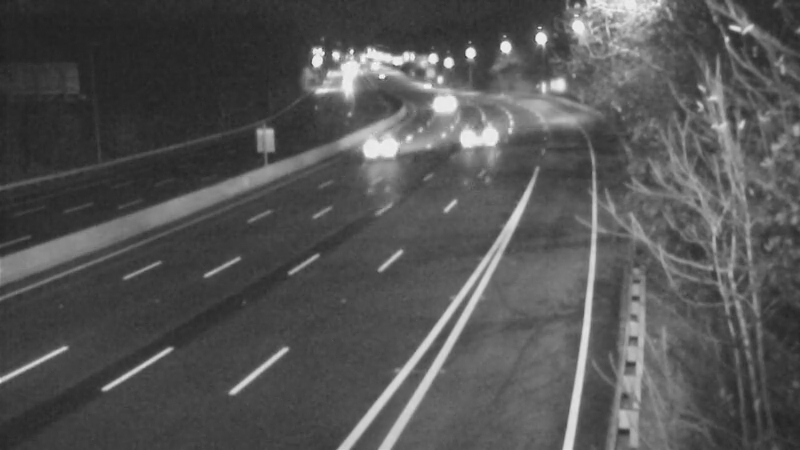vehicle: (421, 78, 471, 128), (460, 110, 510, 160), (357, 121, 407, 171)
